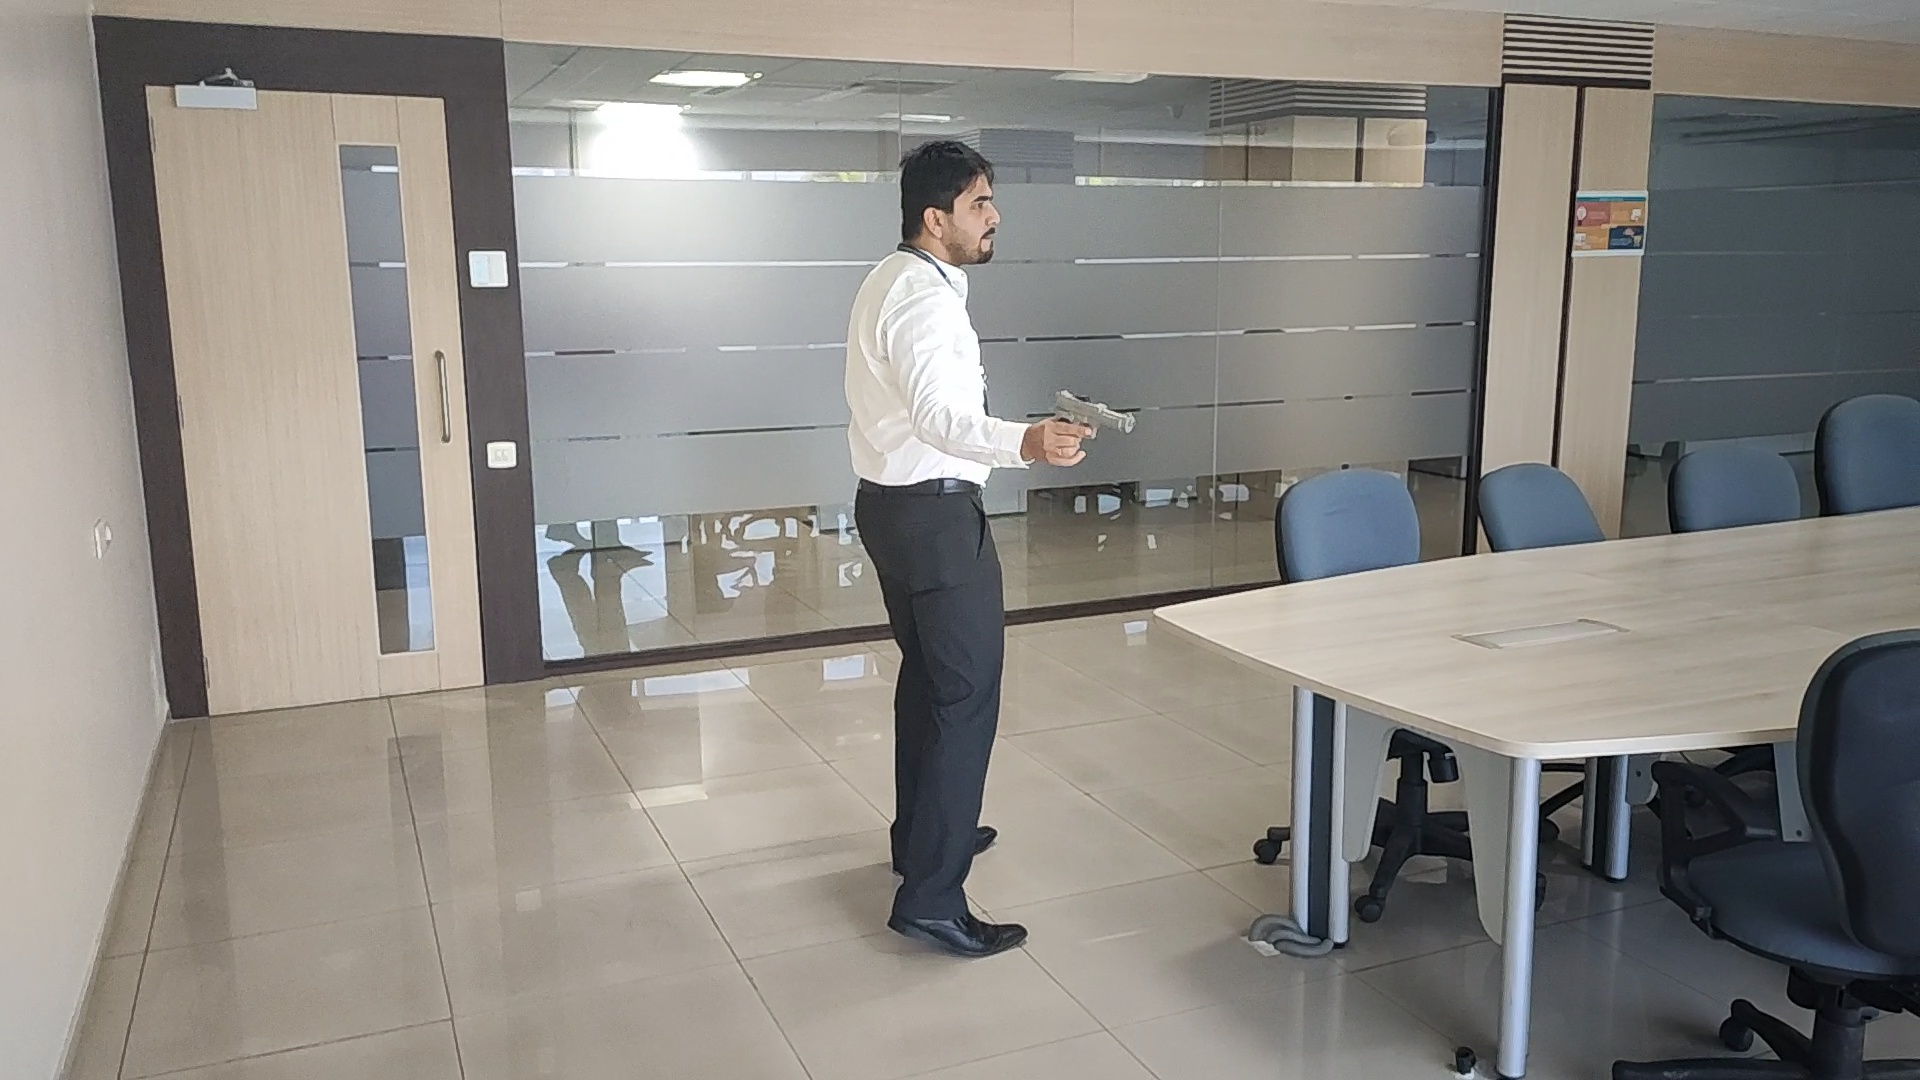gun: (1062, 386, 1139, 438)
